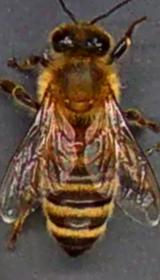varroa_mite: (59, 132, 85, 154)
